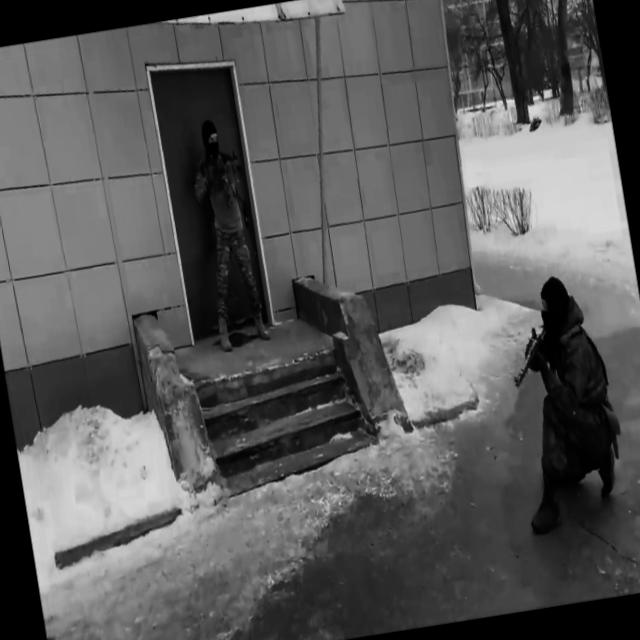gun: (504, 321, 556, 389), (198, 150, 240, 185)
person with a gun: (494, 270, 630, 536), (184, 114, 272, 353)
